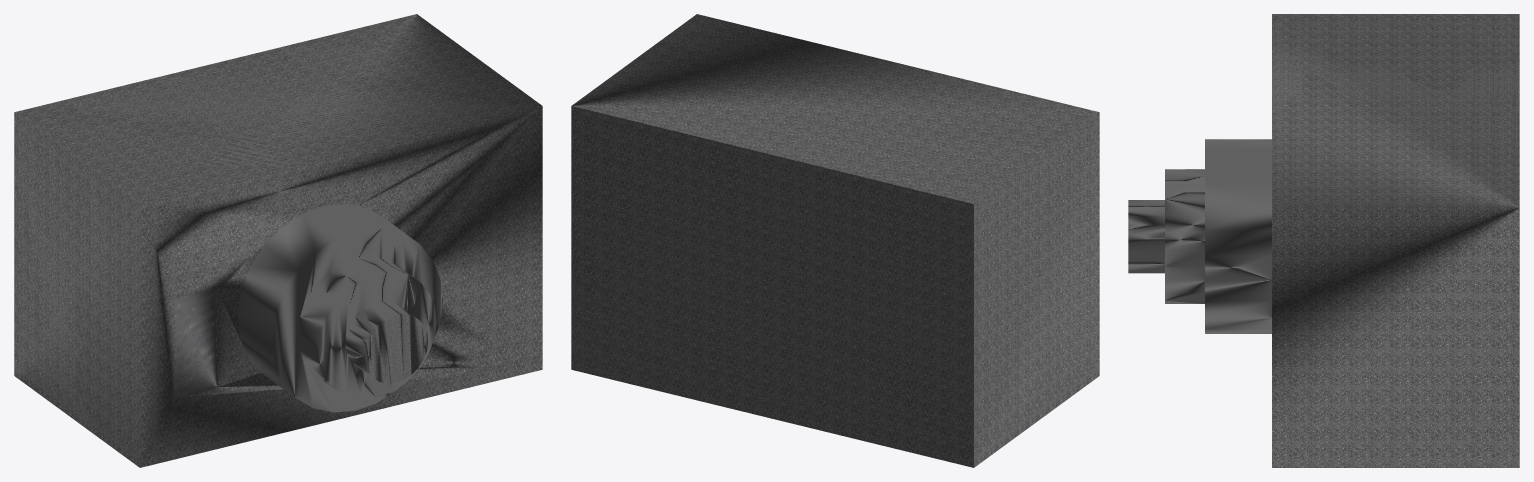
The model's file is model_align.obj.
The picture shows the model from 3 angles, left to right: view 1: azimuth 30°, elevation 25°; view 2: azimuth 150°, elevation 25°; view 3: azimuth 270°, elevation 25°; orthographic projection.
Size of the model in its own units: 0.0899 by 0.0563 by 0.0767.
